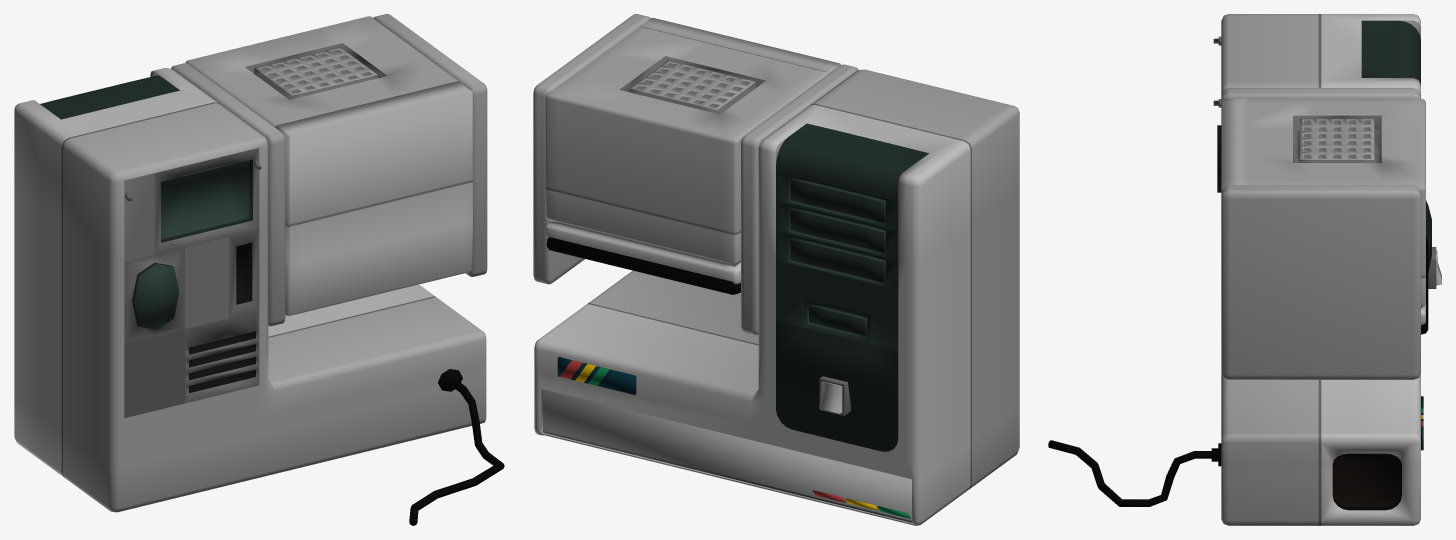
File: console-a.glb
3 views of the same model, side by side, from view 1: azimuth 30°, elevation 25°; view 2: azimuth 150°, elevation 25°; view 3: azimuth 270°, elevation 25° (orthographic). The views are drawn at different scales.
Parts seen in each view (by area): view 1: Mesh_Computer_Desktop_White, Mesh_Computer_monitor; view 2: Mesh_Computer_Desktop_White, Mesh_Computer_monitor, Mesh_Computer_Door, Mesh_Switch_3_Interact; view 3: Mesh_Computer_Desktop_White, Mesh_Computer_monitor.
Boxes of the visible parts, left/top/right/bottom form: Mesh_Computer_Desktop_White: left=14, top=14, right=504, bottom=525; Mesh_Computer_monitor: left=185, top=16, right=472, bottom=315; Mesh_Computer_Desktop_White: left=533, top=14, right=1019, bottom=525; Mesh_Computer_monitor: left=545, top=18, right=840, bottom=294; Mesh_Computer_Door: left=543, top=389, right=911, bottom=522; Mesh_Switch_3_Interact: left=819, top=381, right=842, bottom=413; Mesh_Computer_Desktop_White: left=1048, top=14, right=1431, bottom=525; Mesh_Computer_monitor: left=1221, top=98, right=1428, bottom=334.
Bounding box in the file's own units: 0.6047 × 0.5217 × 0.5544.
Materials: 3 (3 with a texture image).
